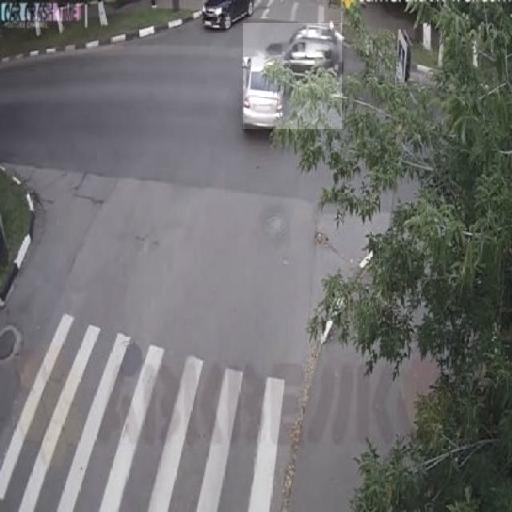小汽车撞小汽车: (243, 23, 342, 129)
